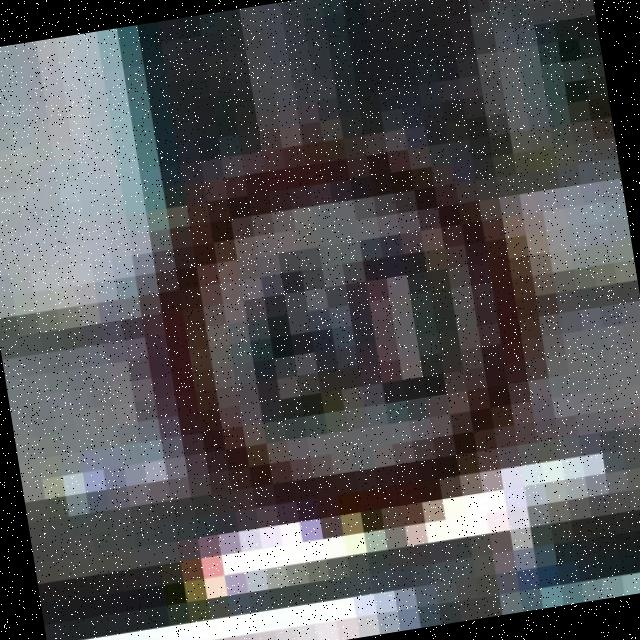Ograniczenie predkosci do 60: (134, 121, 538, 544)
